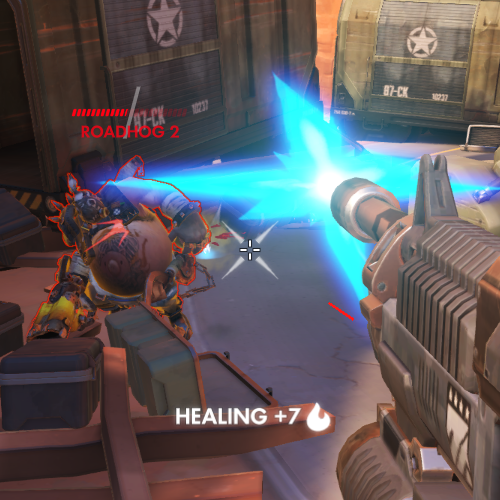hpbar: (71, 108, 187, 117)
